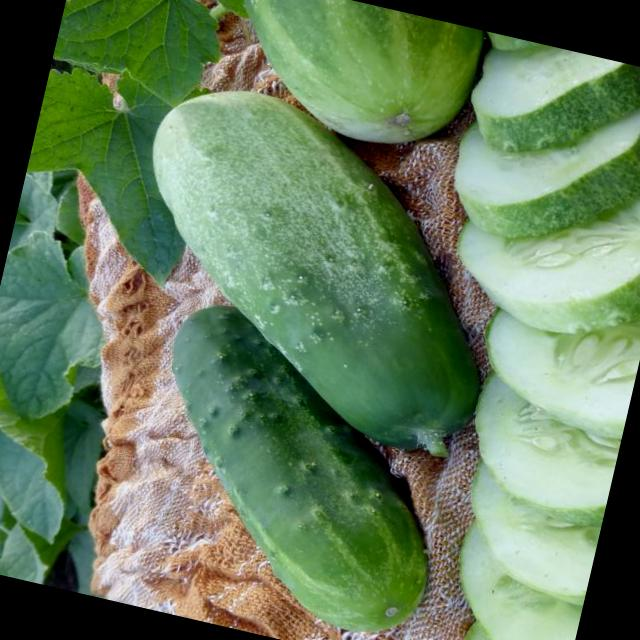Cucumber: (108, 55, 542, 442), (119, 300, 473, 640)
